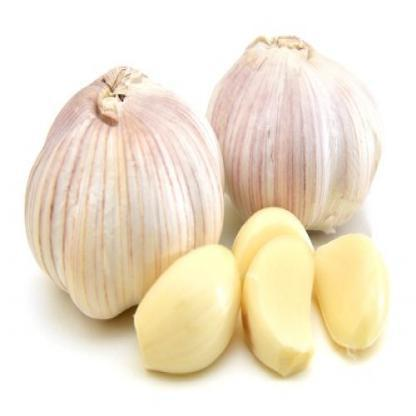garlic: (36, 51, 216, 318), (204, 30, 382, 230), (112, 246, 236, 370), (316, 236, 397, 356), (240, 230, 312, 363)
